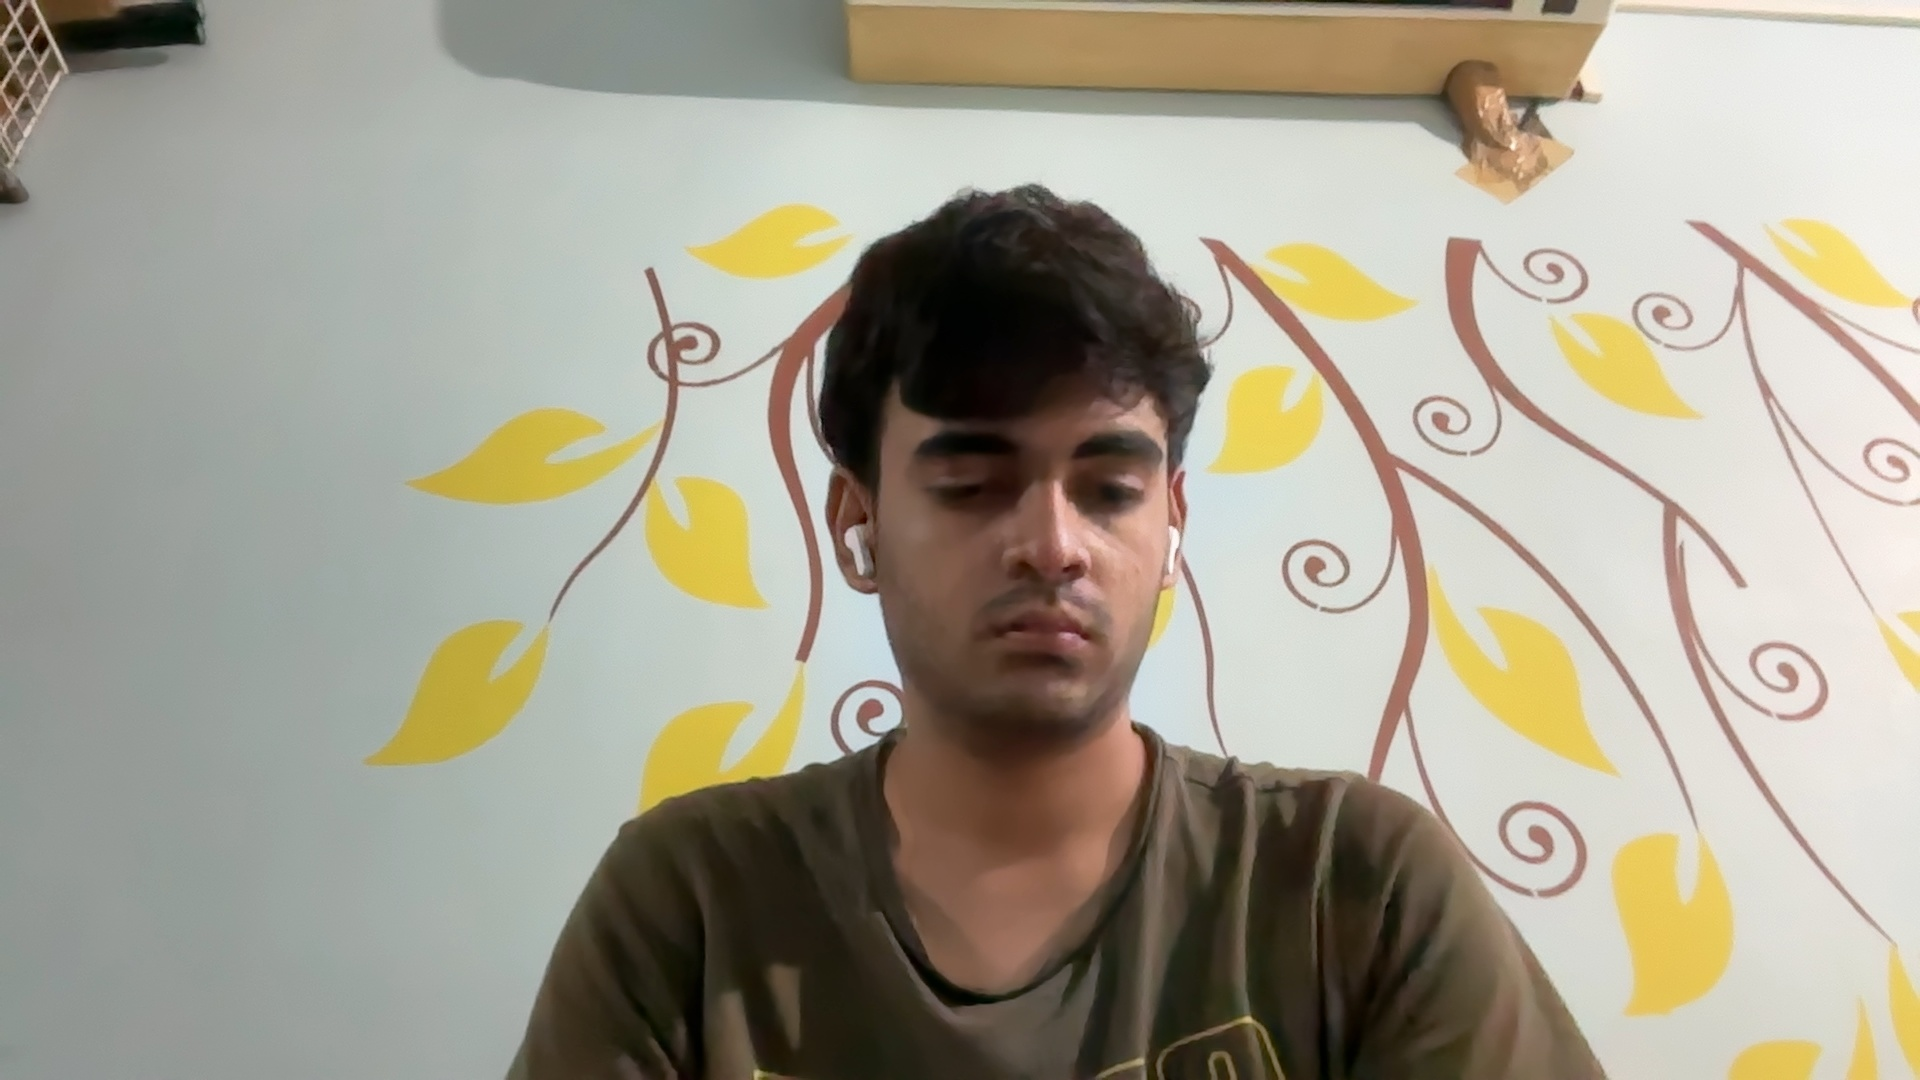No Mask: (875, 523, 1189, 730)
